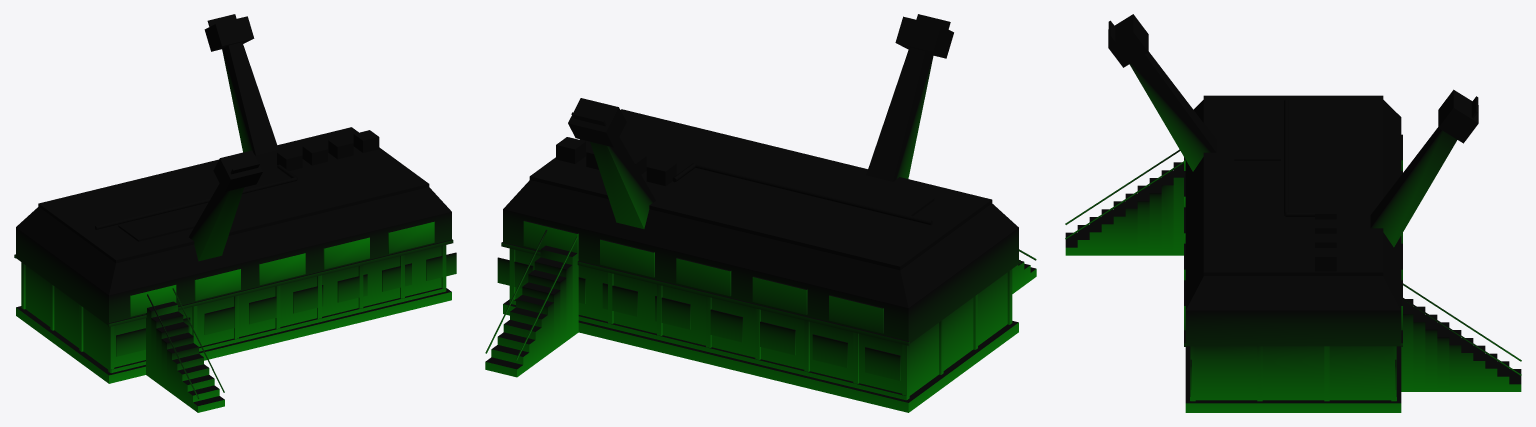
File: terminal2.glb
3 views of the same model, side by side, from view 1: azimuth 30°, elevation 25°; view 2: azimuth 150°, elevation 25°; view 3: azimuth 270°, elevation 25° (orthographic). The views are drawn at different scales.
Visible parts, largest first — view 1: lod0; view 2: lod0; view 3: lod0.
Part boxes in pixels (x1=…): lod0: x1=14, y1=14, x2=456, y2=412; lod0: x1=485, y1=14, x2=1036, y2=412; lod0: x1=1065, y1=14, x2=1521, y2=412.
Size of what is drawn, in the model's own units: 26.05 by 15.7 by 25.46.
